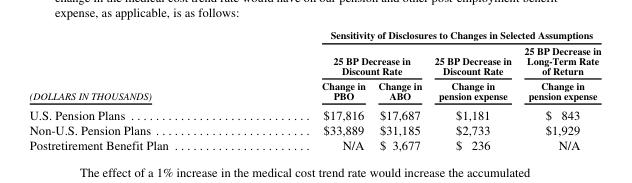table: (28, 29, 600, 151)
table column: (28, 29, 244, 151), (244, 29, 371, 151), (427, 29, 517, 151), (517, 29, 600, 151), (371, 29, 427, 151)
table column header: (28, 29, 600, 104)
table row: (28, 42, 600, 77), (28, 77, 600, 104), (28, 104, 600, 121), (28, 121, 600, 137), (28, 137, 600, 151), (28, 29, 600, 42)
table spanning cell: (28, 29, 244, 104), (244, 42, 427, 77), (427, 42, 517, 104), (517, 42, 600, 104), (244, 29, 600, 42)
